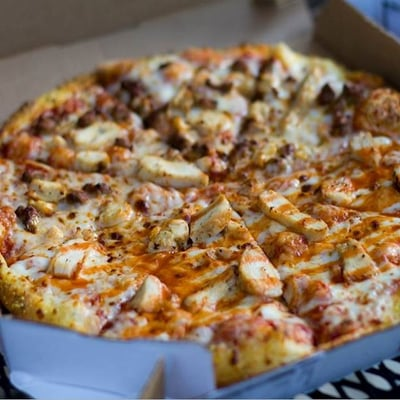sandwich: (0, 41, 400, 388)
